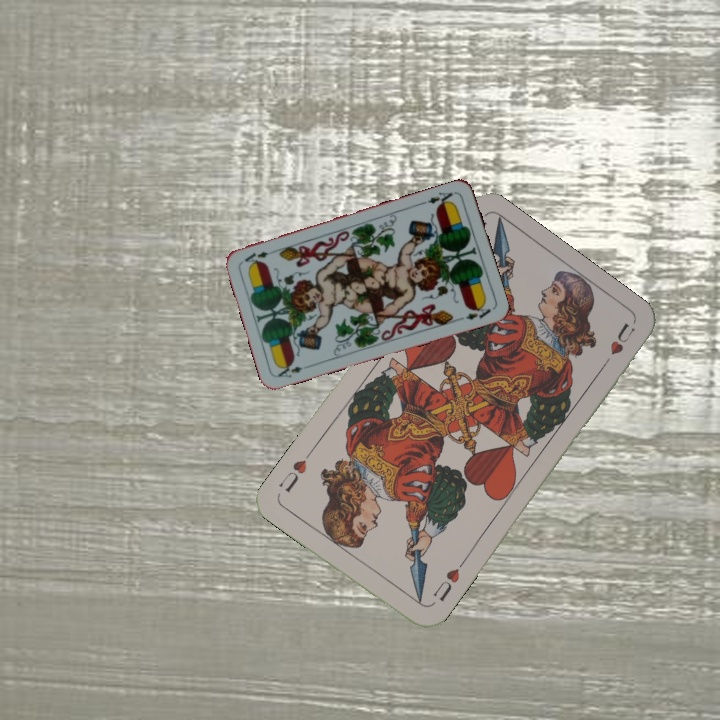EA: (418, 188, 458, 210), (274, 360, 305, 380)
HU: (429, 557, 467, 605)
